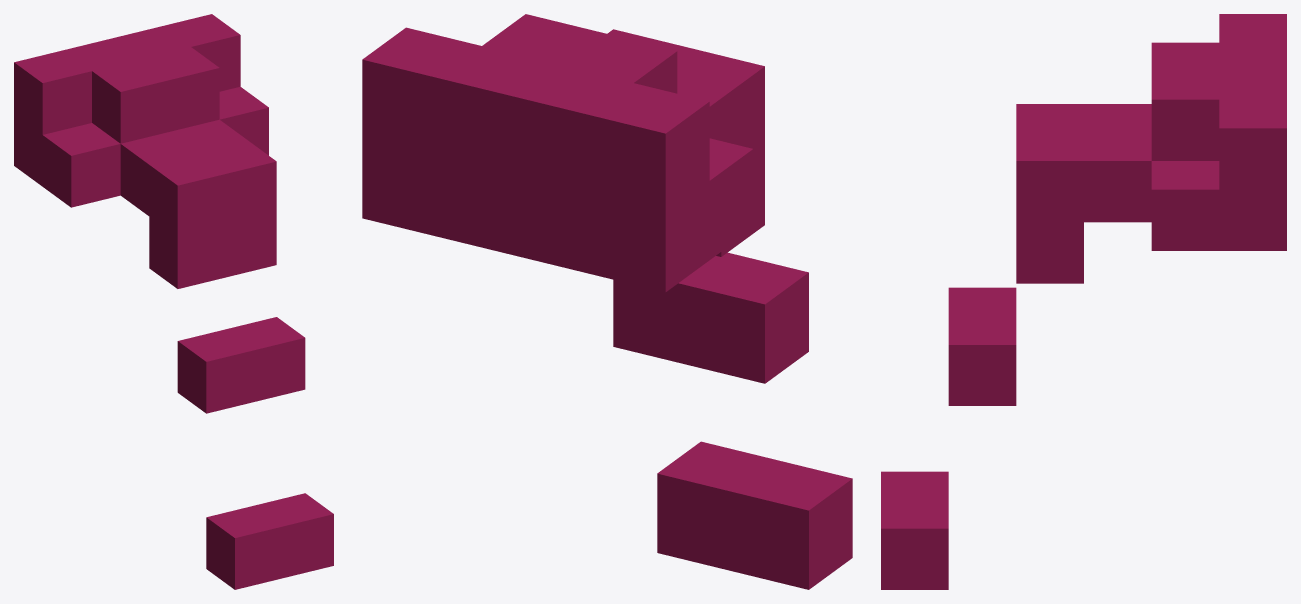
File: luzrosa-p.obj
3 renders of one model, left to right at view 1: azimuth 30°, elevation 25°; view 2: azimuth 150°, elevation 25°; view 3: azimuth 270°, elevation 25°, orthographic. The views are drawn at different scales.
Size of the model in its own units: 0.4 by 0.8 by 0.6.
1 material, 1 textured.
